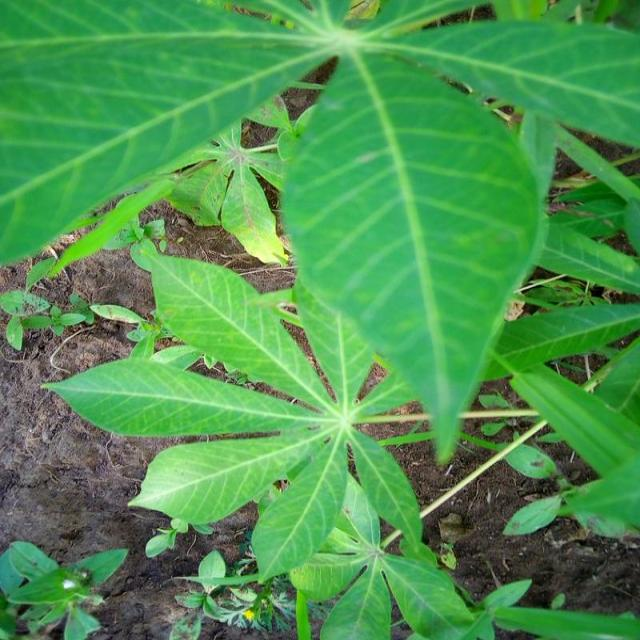cassava leaf: (1, 1, 638, 637), (278, 44, 543, 465)
